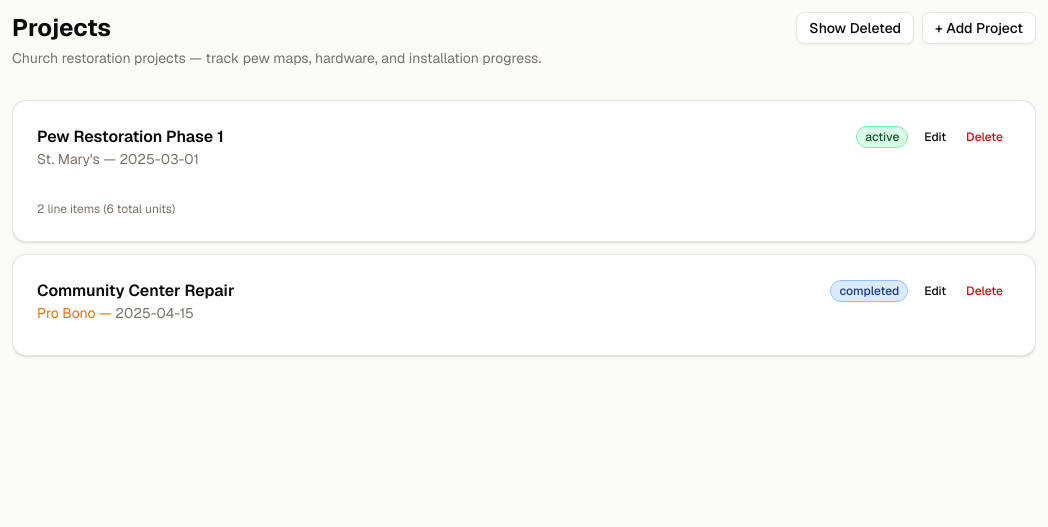
NewProjectsPage › shows deleted projects when Show Deleted is clicked
expect the text "Pew Restoration Phase 1" is shown: met, box [37,125,224,149]
What coordinates should you click on to do the following:
click the button "Show Deleted"
I would click on:
 (855, 28)
Its box is [796,12,914,44].
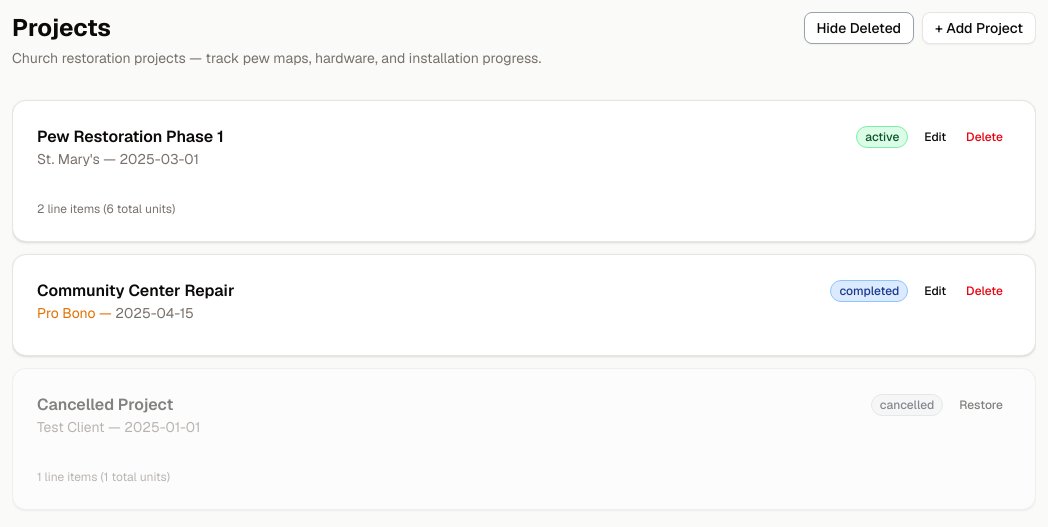
expect the text "Cancelled Project" is shown: met, box [37,394,173,415]
expect the button "Hide Deleted" is shown: met, box [804,12,914,44]
